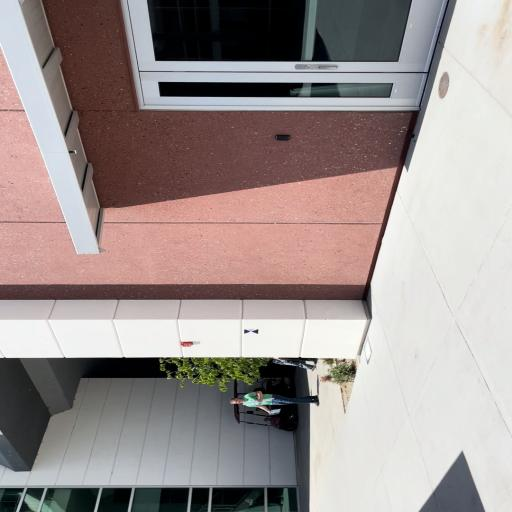target6: (244, 329, 259, 334)
